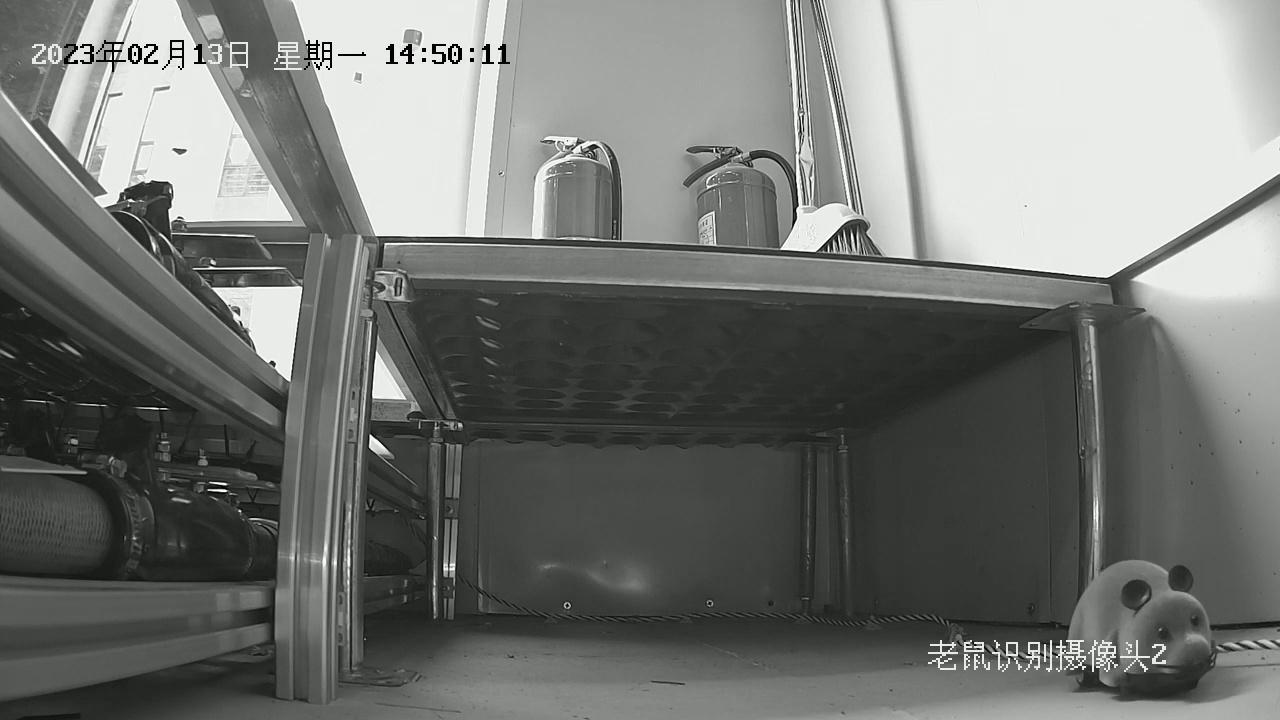rat: (1063, 560, 1213, 700)
